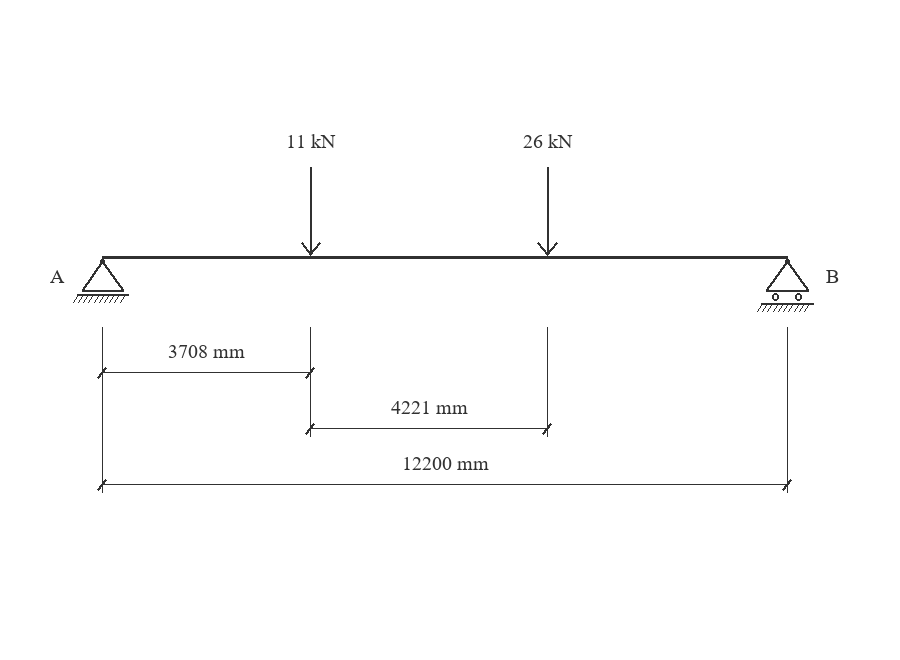pin_support: (73, 259, 129, 303)
point_load: (537, 167, 558, 256), (301, 167, 321, 256)
roller_support: (757, 259, 814, 312)
